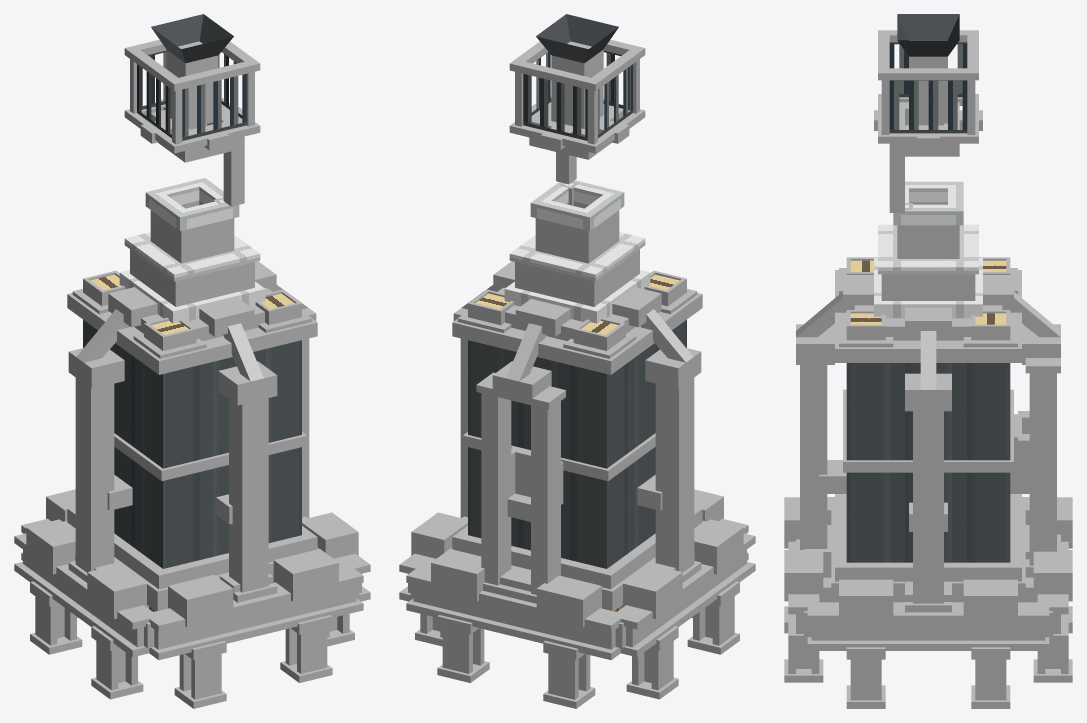
Rendered from alloy_furnace_shell.obj.
The picture shows the model from 3 angles, left to right: view 1: azimuth 30°, elevation 25°; view 2: azimuth 150°, elevation 25°; view 3: azimuth 270°, elevation 25°; orthographic projection. The views are drawn at different scales.
Parts seen in each view (by area): view 1: AlloyFurnace; view 2: AlloyFurnace; view 3: AlloyFurnace.
Part boxes in pixels (x1,y1,x2,y2): AlloyFurnace: [14, 14, 370, 708]; AlloyFurnace: [399, 14, 755, 708]; AlloyFurnace: [784, 14, 1072, 708].
Size of the model in its own units: 4.62 by 11 by 4.62.
